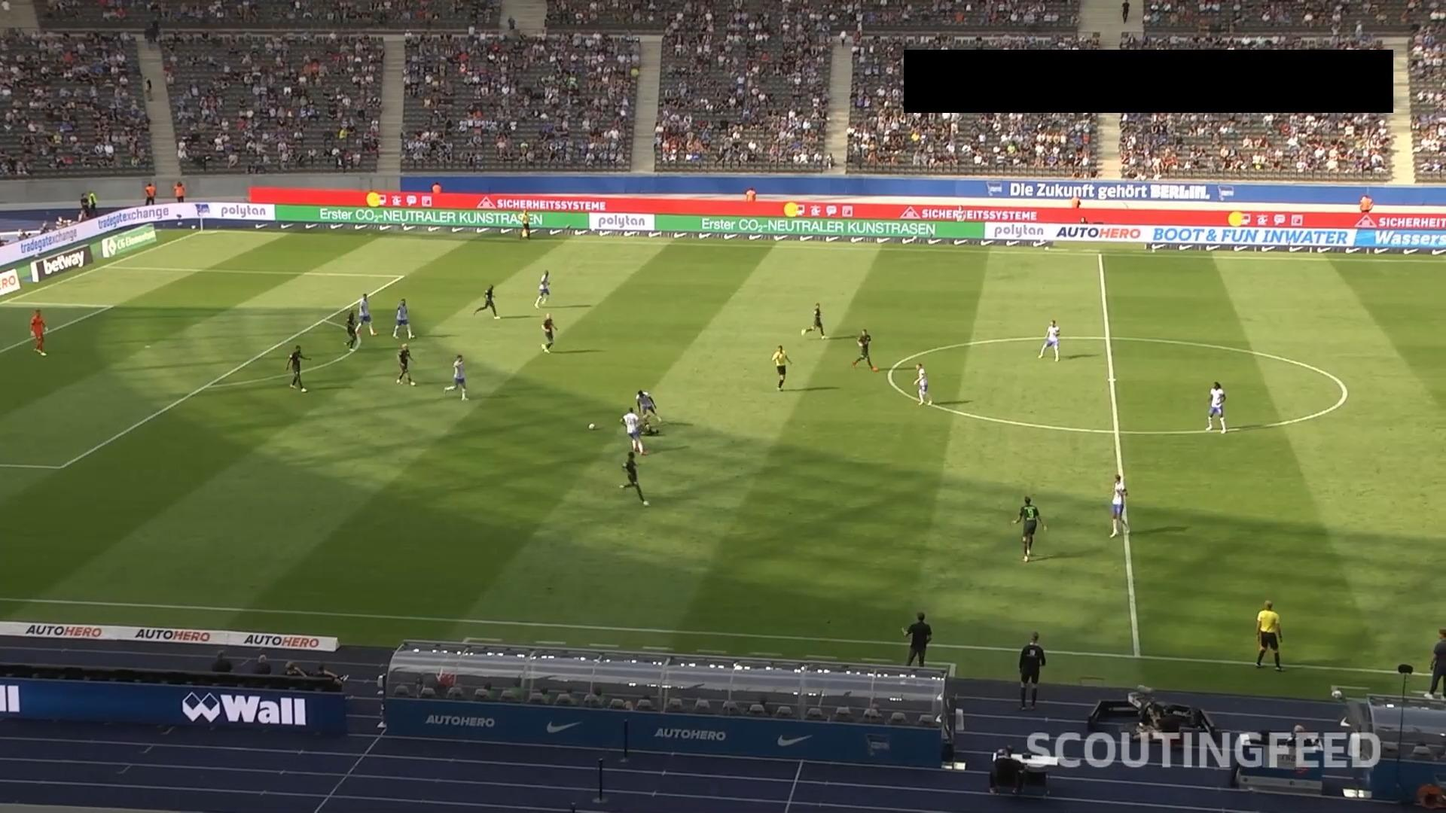ball: (589, 424, 595, 431)
goalkeeper: (29, 309, 49, 357)
player: (1012, 496, 1048, 563), (621, 452, 651, 507), (1109, 473, 1132, 538), (285, 345, 313, 393), (1203, 381, 1227, 436), (444, 355, 472, 401), (619, 408, 645, 454), (851, 331, 878, 370), (354, 294, 379, 336), (472, 284, 501, 320), (912, 363, 935, 406), (391, 298, 415, 339), (395, 344, 418, 386), (636, 389, 664, 423), (800, 304, 827, 339), (1039, 321, 1061, 361), (534, 271, 552, 309), (541, 314, 558, 354), (343, 308, 358, 351), (633, 419, 661, 435)
referee: (1254, 600, 1284, 671), (772, 346, 794, 391), (520, 209, 531, 239)
